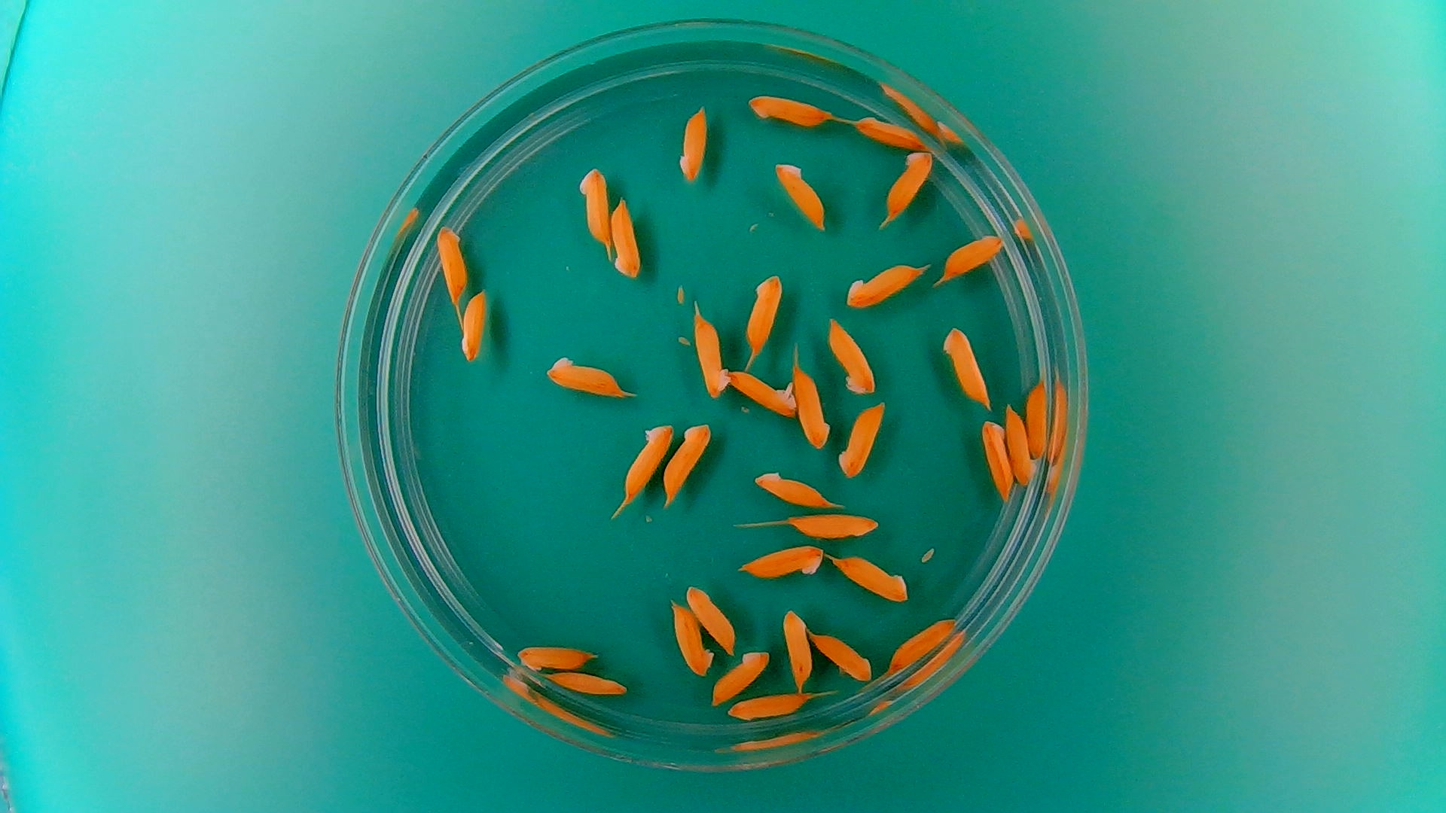no: (619, 419, 676, 504), (939, 323, 992, 410), (841, 259, 929, 311), (886, 614, 961, 675), (542, 350, 633, 400), (660, 419, 712, 505), (824, 313, 877, 397), (770, 157, 827, 233), (831, 552, 912, 603), (689, 303, 731, 401), (881, 148, 935, 224), (836, 397, 884, 482), (667, 596, 715, 678), (683, 581, 737, 653), (742, 269, 785, 357), (791, 358, 831, 451), (602, 195, 645, 281), (737, 540, 825, 581), (710, 647, 771, 705), (752, 464, 832, 508), (808, 629, 874, 682), (938, 230, 1005, 282), (746, 90, 834, 129), (575, 163, 612, 249), (784, 508, 881, 540), (1002, 402, 1038, 486), (513, 639, 599, 674), (979, 416, 1014, 501), (434, 221, 469, 306), (852, 113, 928, 152), (779, 604, 814, 688), (727, 689, 813, 723), (675, 102, 709, 183), (457, 285, 489, 363), (548, 668, 630, 698), (1024, 379, 1051, 459)
yes: (726, 365, 799, 418)
